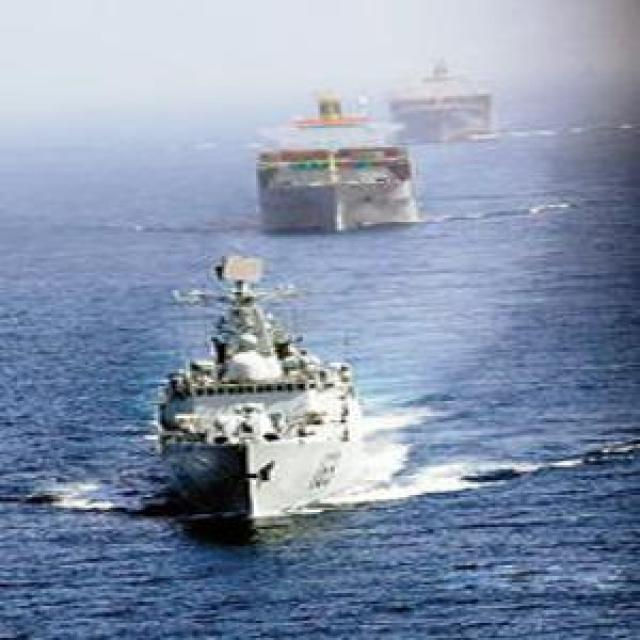navalvessels: (134, 231, 384, 522), (239, 95, 412, 236), (384, 54, 513, 143)
